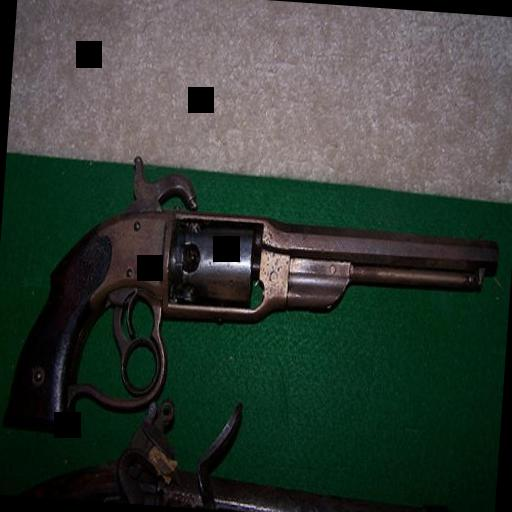Handgun: (0, 138, 503, 465)
